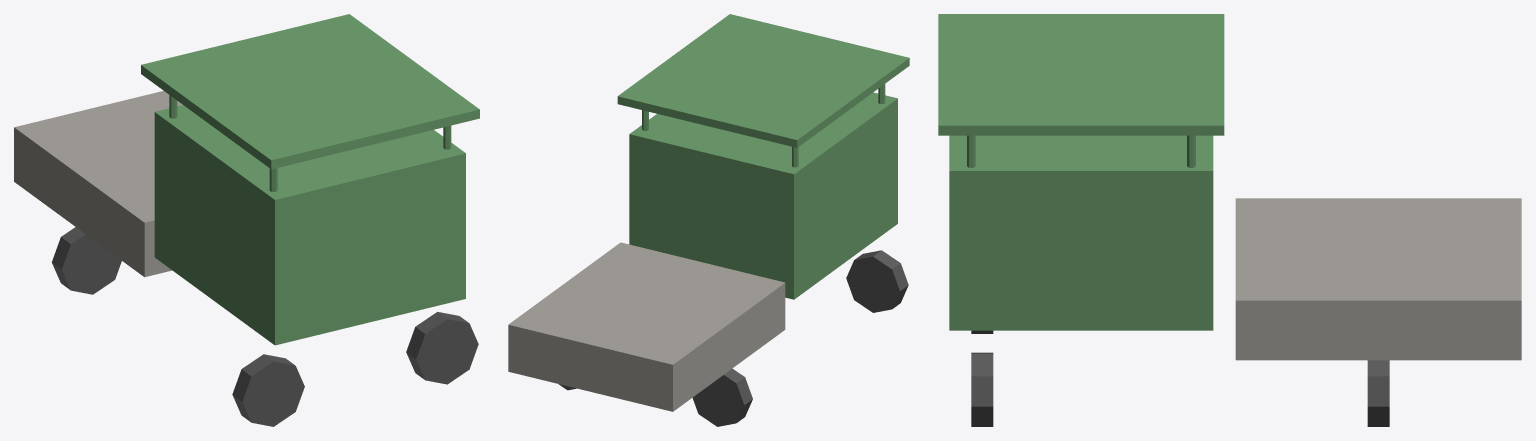
File: cart_utility.glb
3 views of the same model, side by side, from view 1: azimuth 30°, elevation 25°; view 2: azimuth 150°, elevation 25°; view 3: azimuth 270°, elevation 25° (orthographic). The views are drawn at different scales.
Parts seen in each view (by area): view 1: CartUtility; view 2: CartUtility; view 3: CartUtility.
Part boxes in pixels (x1,y1,x2,y2): CartUtility: [14, 14, 479, 426]; CartUtility: [508, 14, 909, 426]; CartUtility: [938, 14, 1521, 426].
Size of the model in its own units: 1.36 by 1.55 by 2.65.
